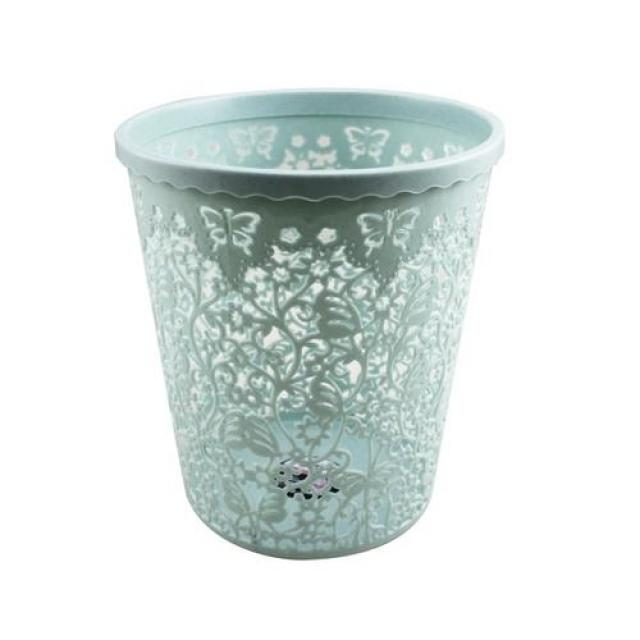Dustbin: (109, 81, 510, 566)
